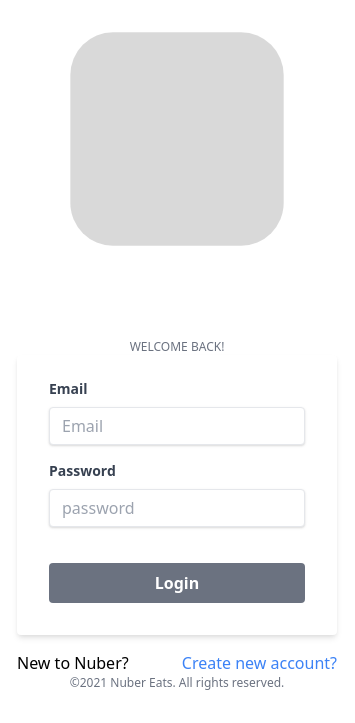
Test: Log In › can see email / password validation error
In the field with placeholder "Email": (177, 426) [49,407,305,445], type "test@test"
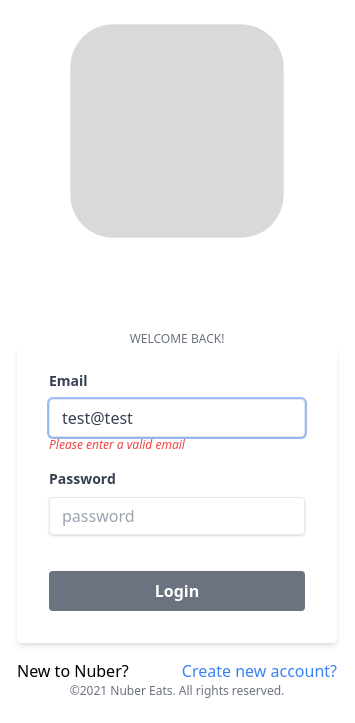
Expected: the message "Please enter a valid email" is shown, [49,436,185,453]
Clear the field with placeholder "Email": (177, 418) [49,399,305,437]
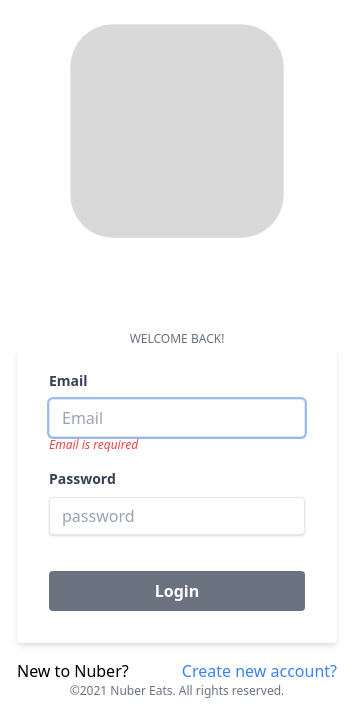
Expected: the message "Email is required" is shown, [49,436,138,453]
In the password field with placeholder "Password": (177, 516) [49,497,305,535], type "123456"
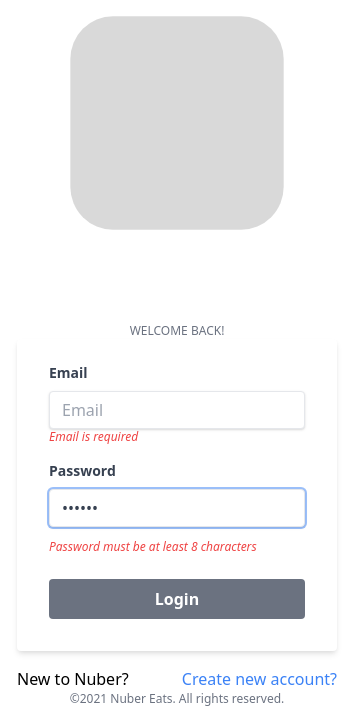
Expected: the message "Password must be at least 8 characters" is shown, [49,538,257,555]
Clear the password field with placeholder "Password": (177, 508) [49,489,305,527]
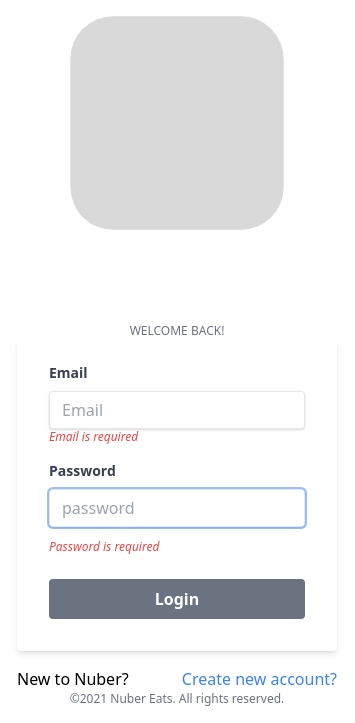
Expected: the message "Password is required" is shown, [49,538,159,555]
